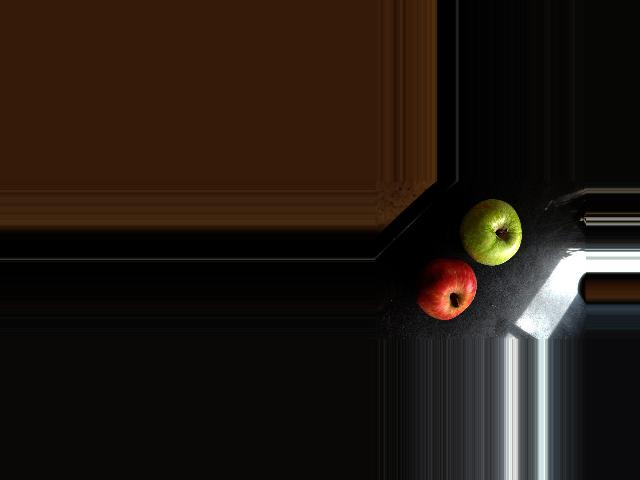apple: (411, 260, 479, 322)
